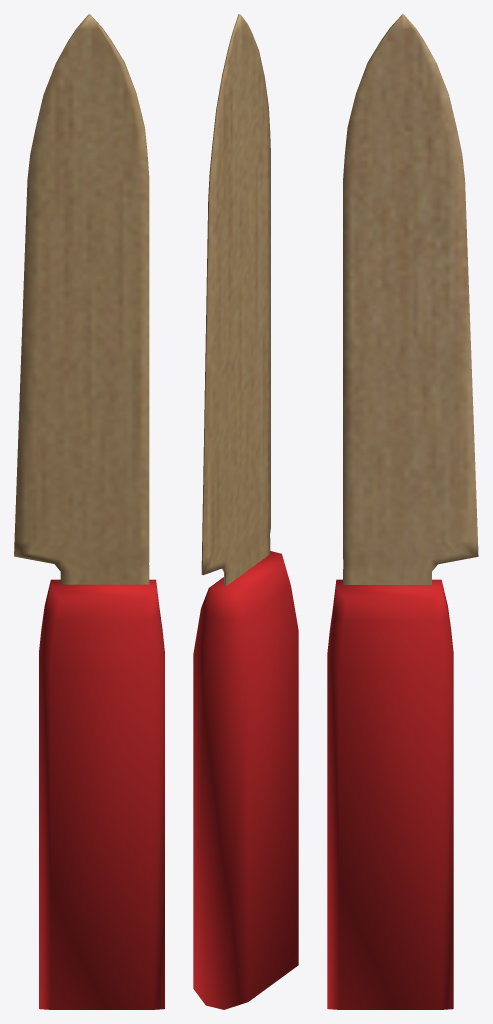
Rendered from MOD_PRO_Knife_01.fbx.
The picture shows the model from 3 angles, left to right: view 1: azimuth 90°, elevation 25°; view 2: azimuth 150°, elevation 25°; view 3: azimuth 270°, elevation 25°; orthographic projection.
Visible parts, largest first — view 1: HSHP_MOD_Knife_01; view 2: HSHP_MOD_Knife_01; view 3: HSHP_MOD_Knife_01.
Part boxes in pixels (x1,y1,x2,y2): HSHP_MOD_Knife_01: (14,14,164,1009); HSHP_MOD_Knife_01: (193,14,298,1009); HSHP_MOD_Knife_01: (327,14,478,1009).
Size of the model in its own units: 0.0187 by 0.317 by 0.0438.
